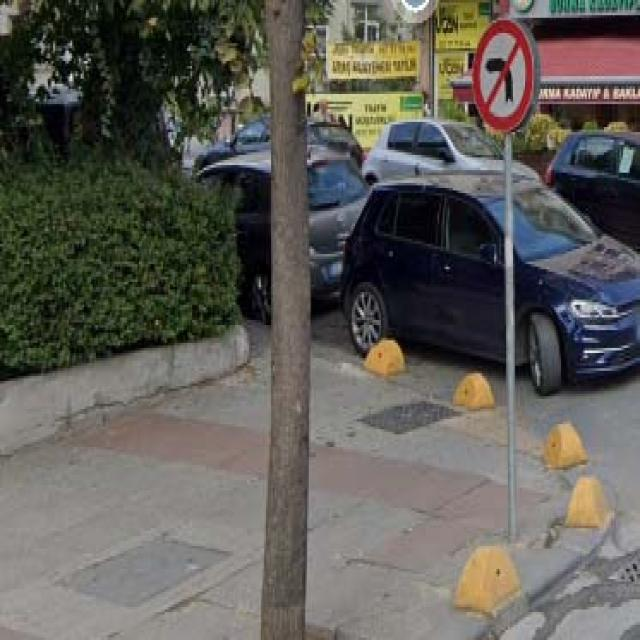soladonulmez: (470, 18, 534, 132)
